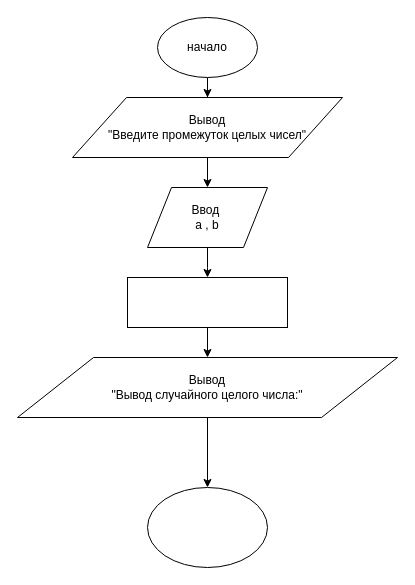
The diagram is 415 pixels wide and 585 high, and some of its shapes have lost their labels. The shapes that lost their labels are listed below. From the top down, each one's box as (x1, y1, x2, y2) in pixels, then its label:
(126, 276, 288, 328): Получение случайного числа в промежутке от а до b
(146, 486, 268, 568): Конец
